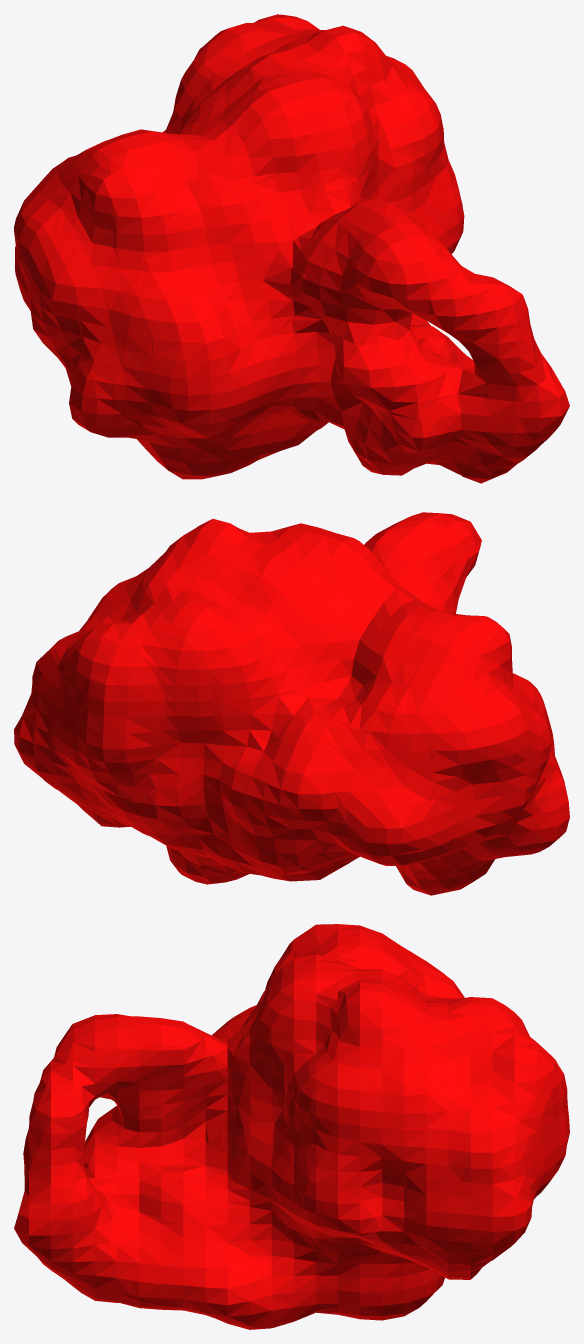
Rendered from dadA_coarse.dae.
3 renders of one model, top to bottom at view 1: azimuth 30°, elevation 25°; view 2: azimuth 150°, elevation 25°; view 3: azimuth 270°, elevation 25°, orthographic. The views are drawn at different scales.
Visible parts, largest first — view 1: dadA; view 2: dadA; view 3: dadA.
Part boxes in pixels (x1=…): dadA: x1=14, y1=14, x2=569, y2=483; dadA: x1=14, y1=512, x2=569, y2=895; dadA: x1=14, y1=924, x2=569, y2=1329.
Size of the model in its own units: 65.74 by 50.53 by 76.25.
